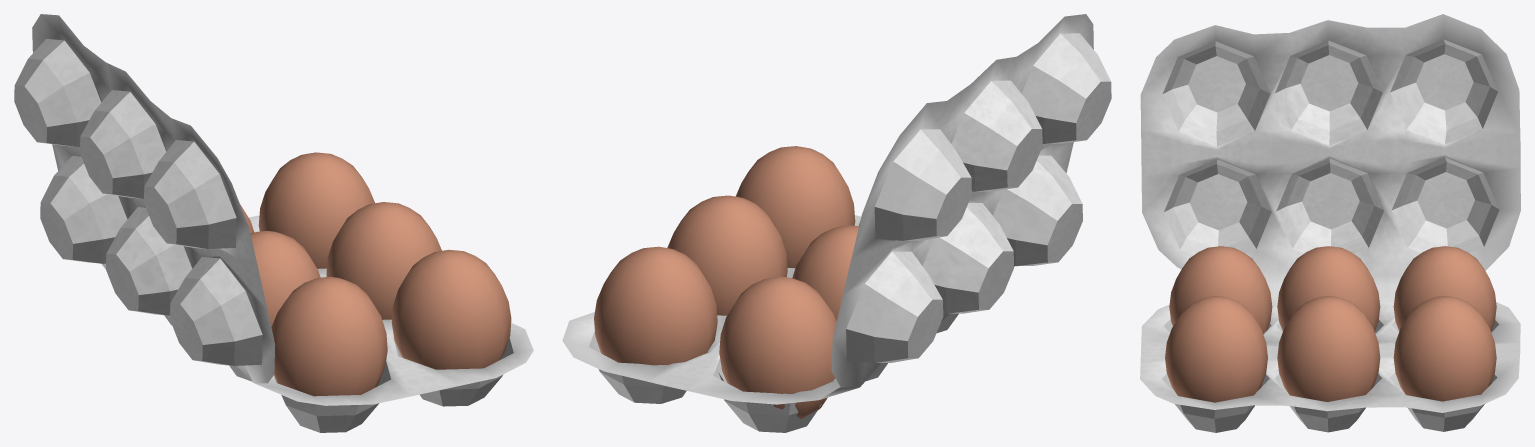
The model's file is egg_in.fbx.
The picture shows the model from 3 angles, left to right: view 1: azimuth 30°, elevation 25°; view 2: azimuth 150°, elevation 25°; view 3: azimuth 270°, elevation 25°; orthographic projection. The views are drawn at different scales.
Parts seen in each view (by area): view 1: egg, pSphere2.001; view 2: egg, pSphere2.001; view 3: egg, pSphere2.001.
Boxes of the visible parts, box(x1,y1,x2,y2) form: egg: box(14, 14, 533, 432); pSphere2.001: box(240, 152, 511, 396); egg: box(562, 14, 1111, 432); pSphere2.001: box(594, 146, 860, 419); egg: box(1140, 14, 1520, 432); pSphere2.001: box(1165, 246, 1496, 402).
Bounding box in the file's own units: 135 × 116 × 135.
